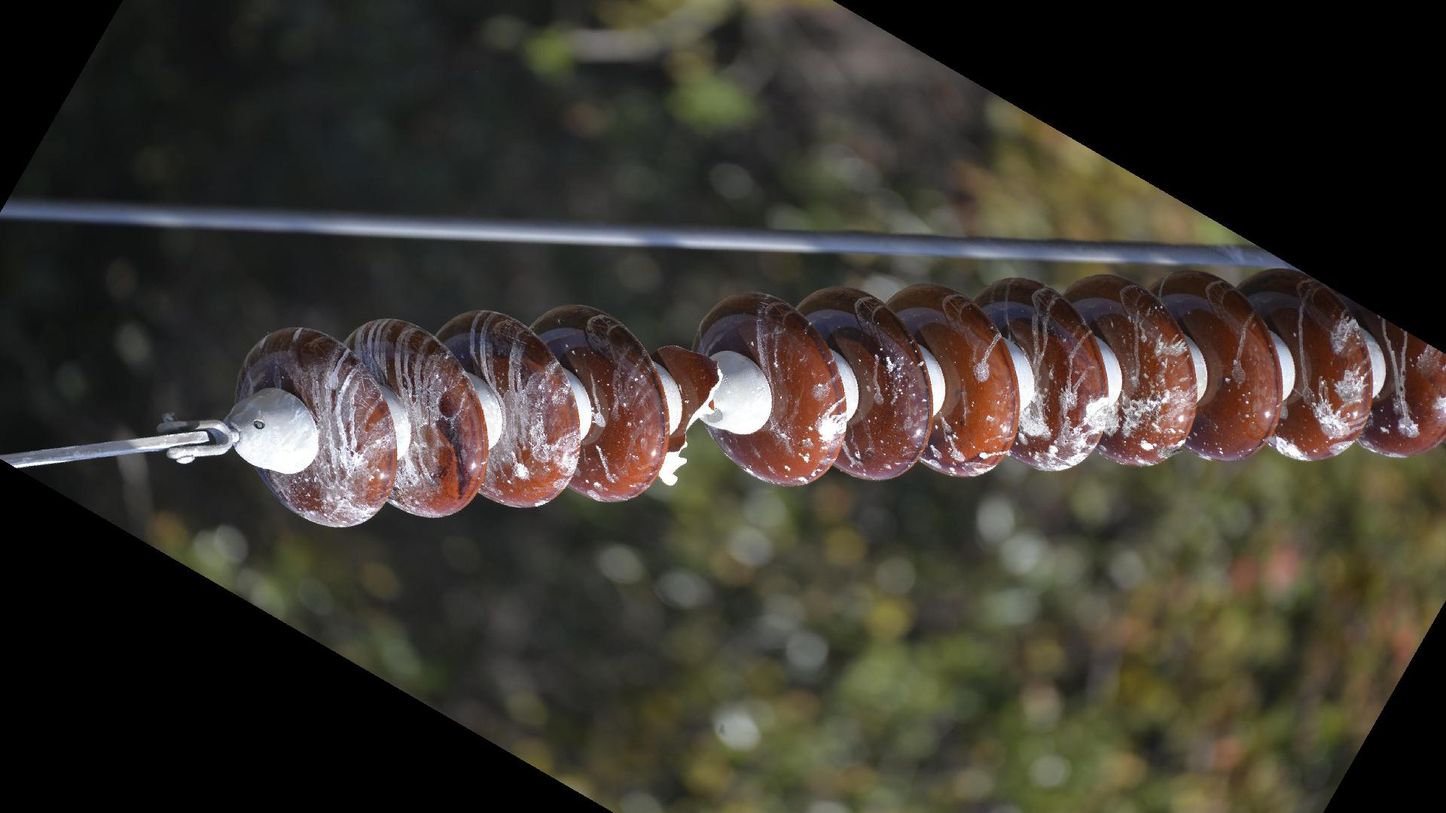insulator: (227, 254, 1446, 534)
insulator_breakage: (651, 335, 726, 492)
